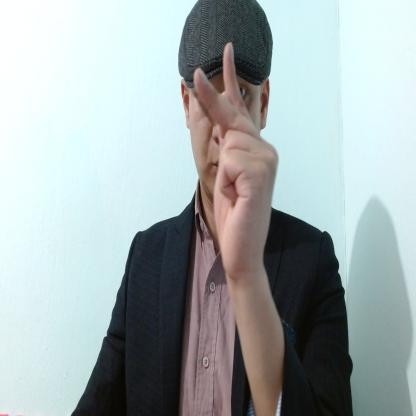P: (193, 41, 280, 279)
